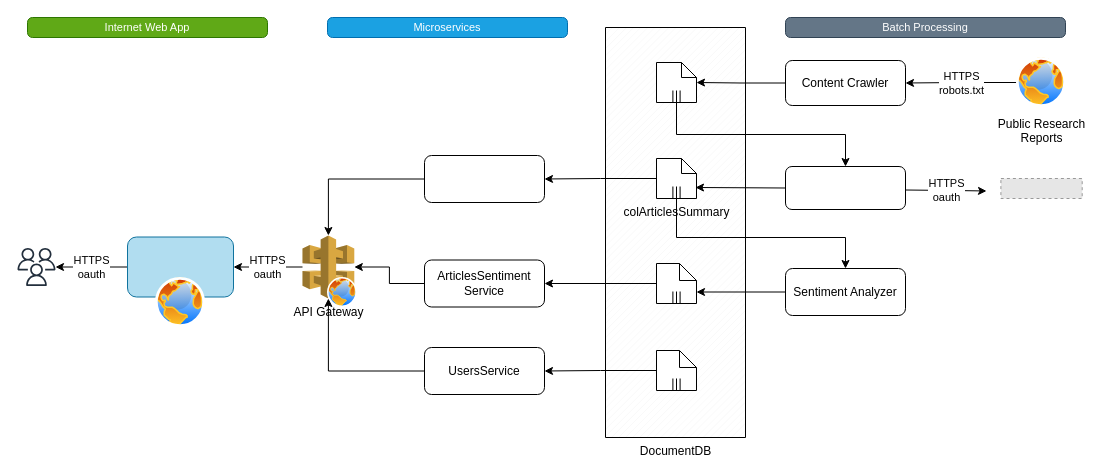
The diagram is 1102 pixels wide and 476 high, and some of its shapes have lost their labels. Grey dashed boxes stand in for pictures. The shapes that lost their labels are listed below. From the top down, each one's centre as x and y in pixels, then its label:
At point 676,82: "colArticlesRaw".
At point 484,178: "ArticlesSummary Service".
At point 845,188: "Content Transformer".
At point 180,266: "WebApp".
At point 676,283: "colArticlesSentiments".
At point 676,370: "colUsers".
